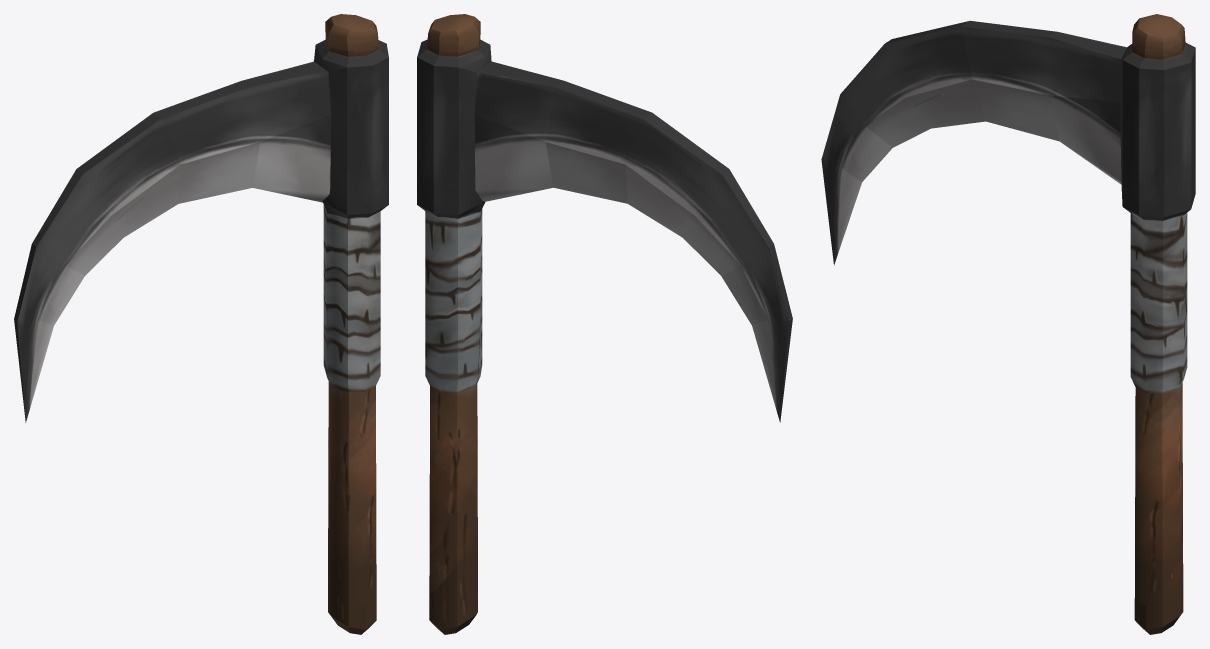
File: SurvivalTools_Scythe.fbx
3 renders of one model, left to right at view 1: azimuth 30°, elevation 25°; view 2: azimuth 150°, elevation 25°; view 3: azimuth 330°, elevation 25°, orthographic.
Parts seen in each view (by area): view 1: Scythe_MDL; view 2: Scythe_MDL; view 3: Scythe_MDL.
Boxes of the visible parts, x1=… form: Scythe_MDL: x1=14, y1=14, x2=388, y2=634; Scythe_MDL: x1=417, y1=14, x2=792, y2=634; Scythe_MDL: x1=821, y1=14, x2=1195, y2=634.
Bounding box in the file's own units: 9.41 × 14.92 × 1.77.
